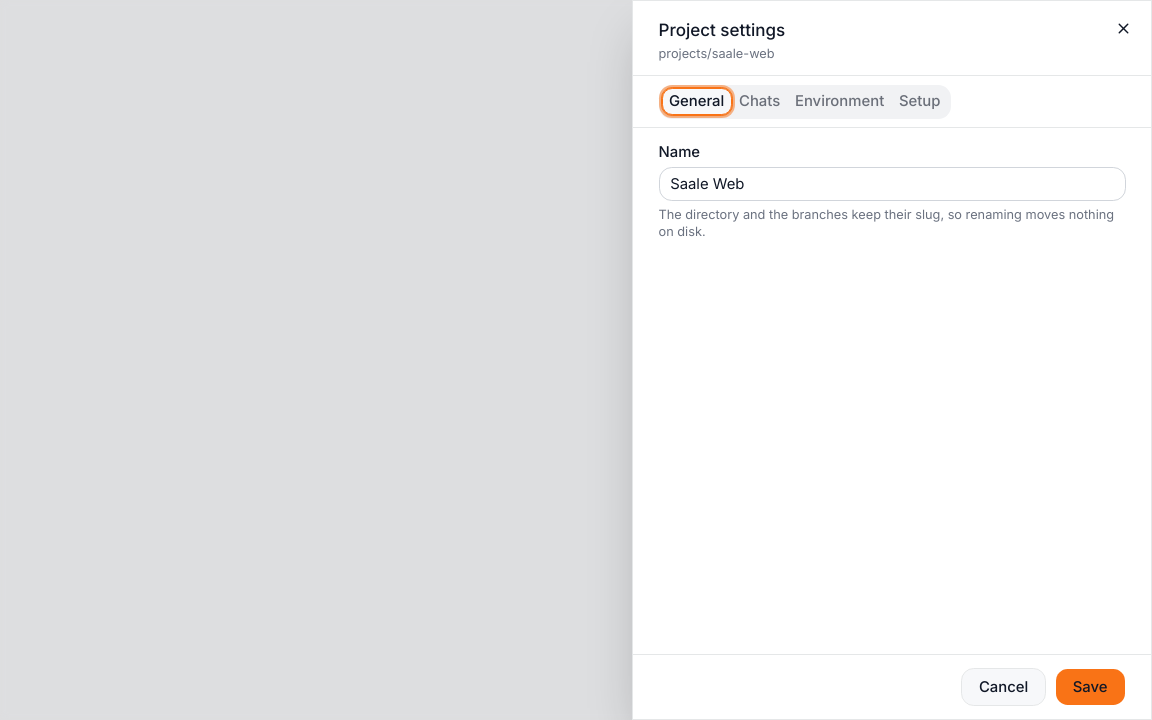
ProjectSettingsSheet › keeps the box open and shows why the server refused
Check: the field showing "Saale Web" is shown, box [658,167,1126,201]
Click the button "Save": {"x": 1090, "y": 687} [1055,668,1126,706]
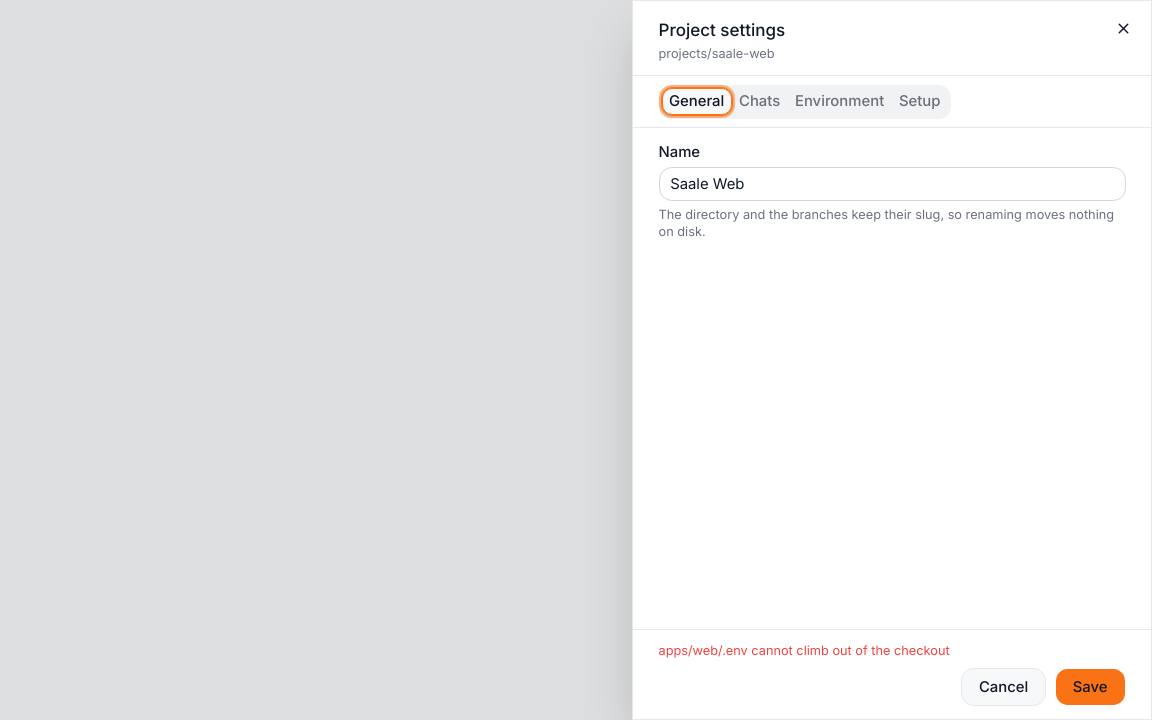
Check: the text "apps/web/.env cannot climb out of the checkout" is shown, box [658,642,950,658]
